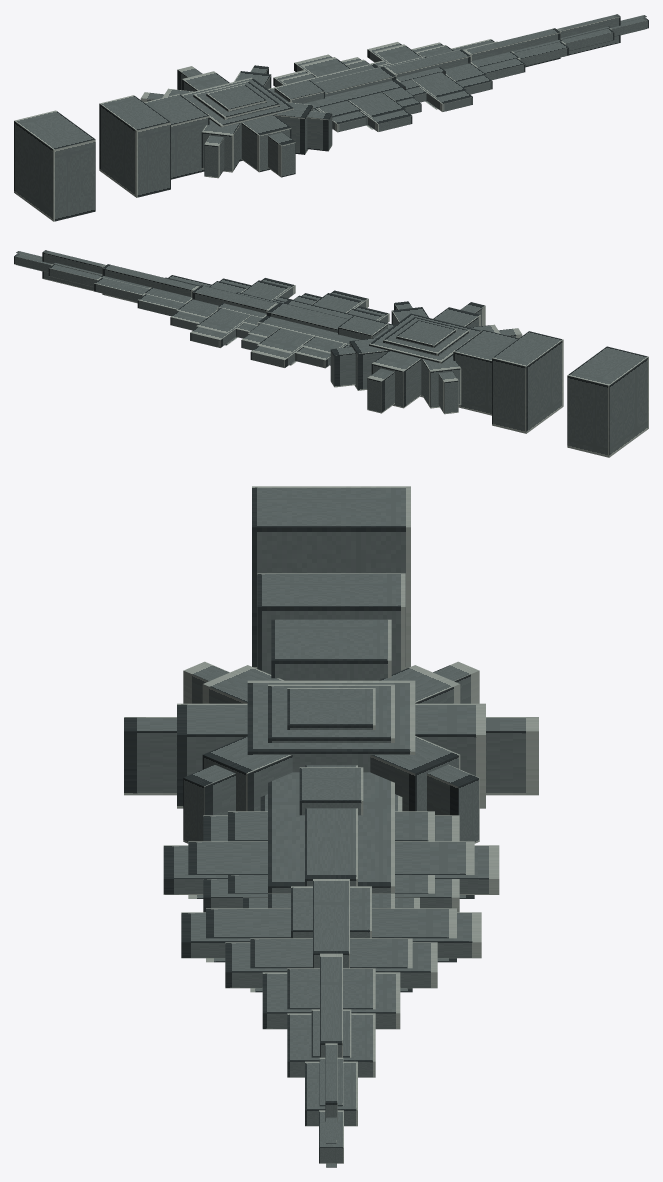
The model's file is bench_spear_1.obj.
3 renders of one model, top to bottom at view 1: azimuth 30°, elevation 25°; view 2: azimuth 150°, elevation 25°; view 3: azimuth 270°, elevation 25°, orthographic. The views are drawn at different scales.
Visible parts, largest first — view 1: geometry; view 2: geometry; view 3: geometry.
Boxes of the visible parts, x1=… form: geometry: x1=14, y1=14, x2=648, y2=221; geometry: x1=14, y1=250, x2=648, y2=457; geometry: x1=124, y1=486, x2=538, y2=1167.
Size of the model in its own units: 0.75 by 0.0844 by 0.2203.
